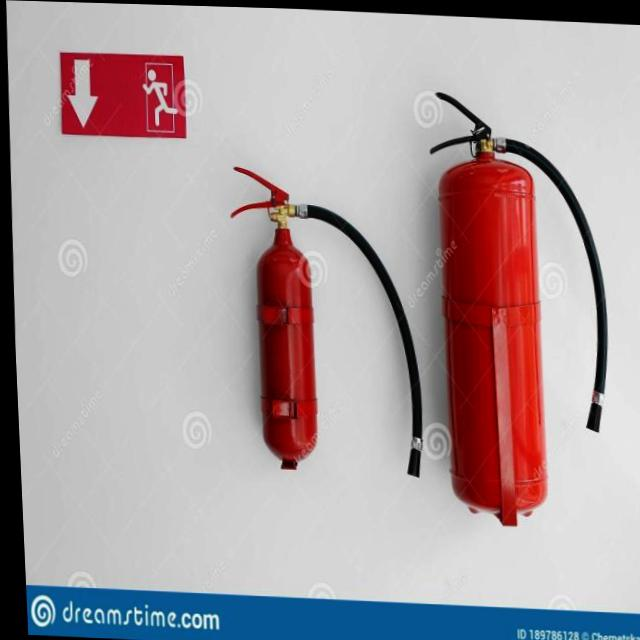FireExtinguisher: (413, 78, 620, 531), (213, 154, 427, 492)
